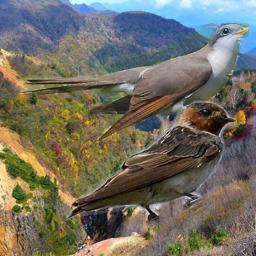Cuckoo: (20, 23, 249, 140)
Swallow: (62, 99, 237, 226)
